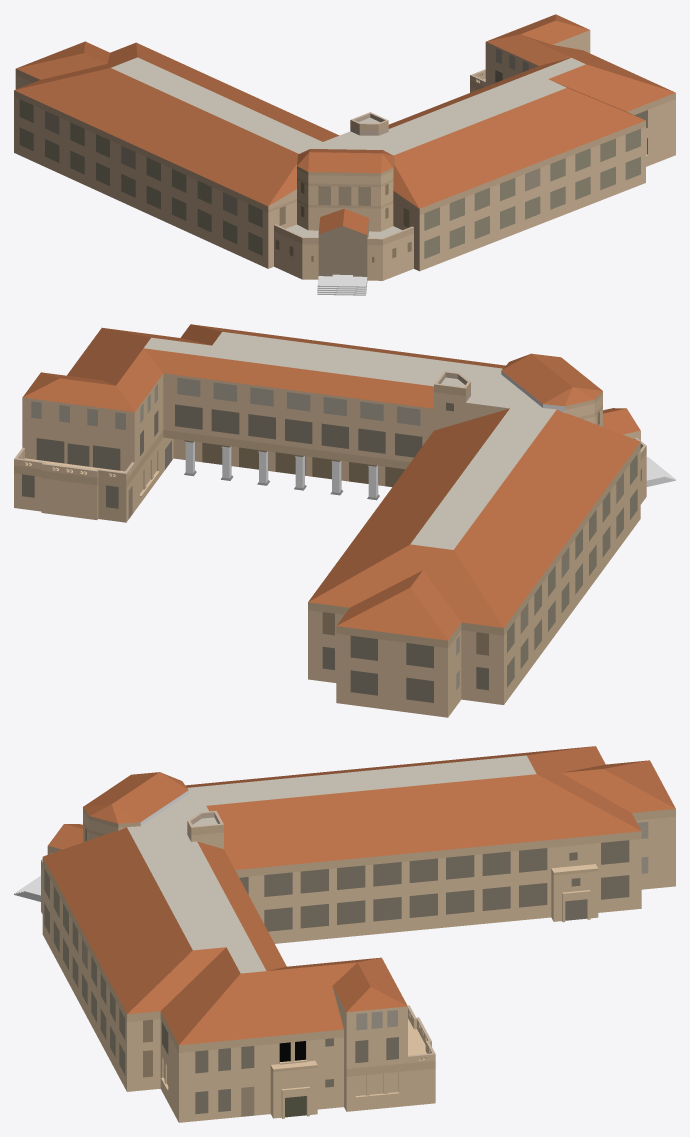
Rendered from test4_centered.dae.
3 views of the same model, one above another, from view 1: azimuth 30°, elevation 25°; view 2: azimuth 150°, elevation 25°; view 3: azimuth 270°, elevation 25° (orthographic). The views are drawn at different scales.
Parts seen in each view (by area): view 1: group_0 (×10), group_1 (×3); view 2: group_0 (×9), Window_2L (×12), group_1; view 3: group_0 (×9), Window_2L (×18), group_1.
Part boxes in pixels (<box>): group_0 (×10): <box>14,14,675,295</box>; group_1 (×3): <box>297,149,394,231</box>; group_0 (×9): <box>14,324,646,717</box>; Window_2L (×12): <box>36,404,433,702</box>; group_1: <box>501,353,602,406</box>; group_0 (×9): <box>41,746,675,1122</box>; Window_2L (×18): <box>264,840,629,931</box>; group_1: <box>83,772,188,823</box>.
Size of the model in its own units: 2977 by 2784 by 576.
